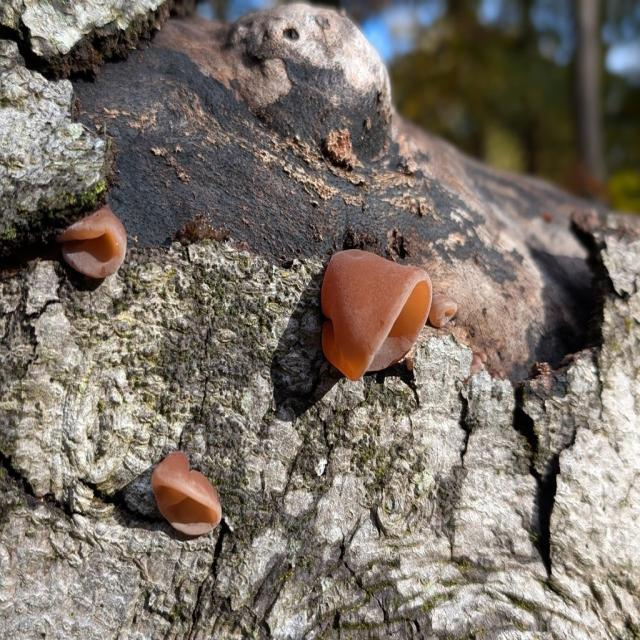Fase Muda: (321, 238, 450, 380), (153, 440, 238, 555), (55, 202, 152, 290)
